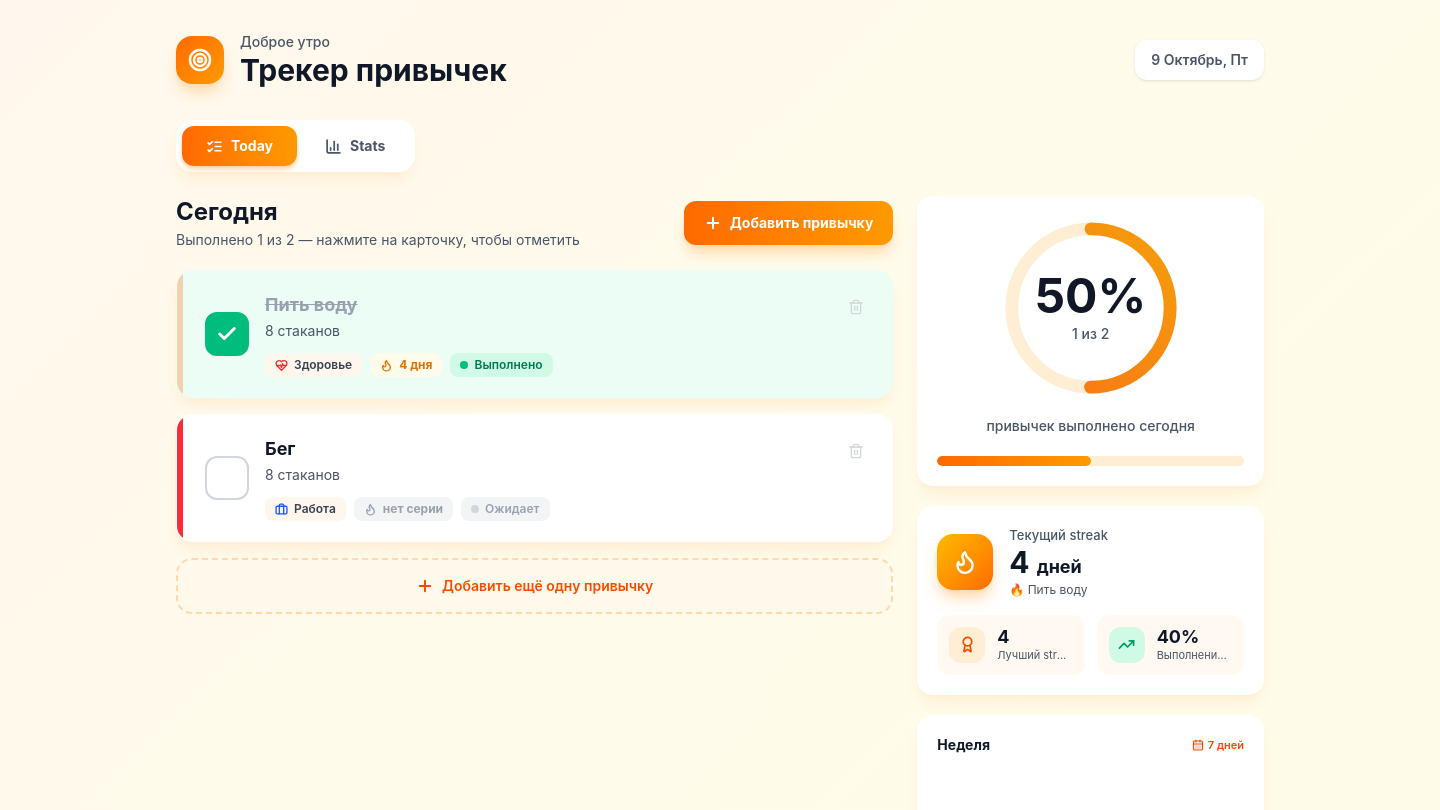
Test: Stats — вкладка › показывает текущий месяц и календарную сетку
Click the button "Stats": x=355, y=146 [301,126,409,166]
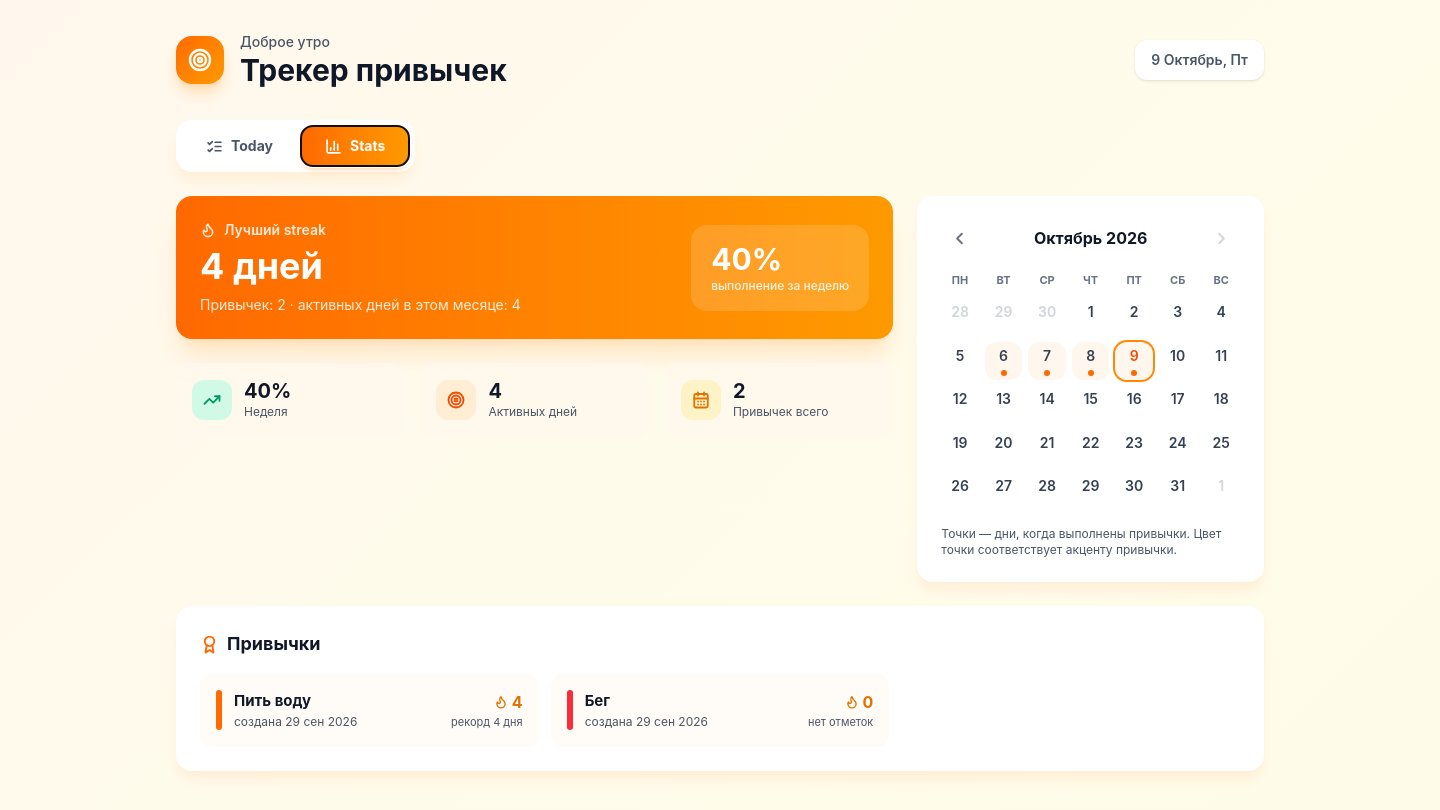
Expected: the text "Пн" is shown, [952,273,968,287]
Expected: the text "Вс" is shown, [1214,273,1229,287]
